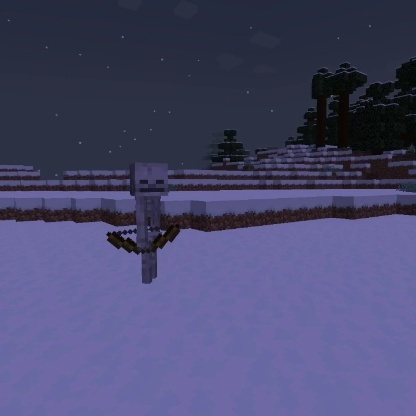skeleton: (103, 158, 183, 287)
